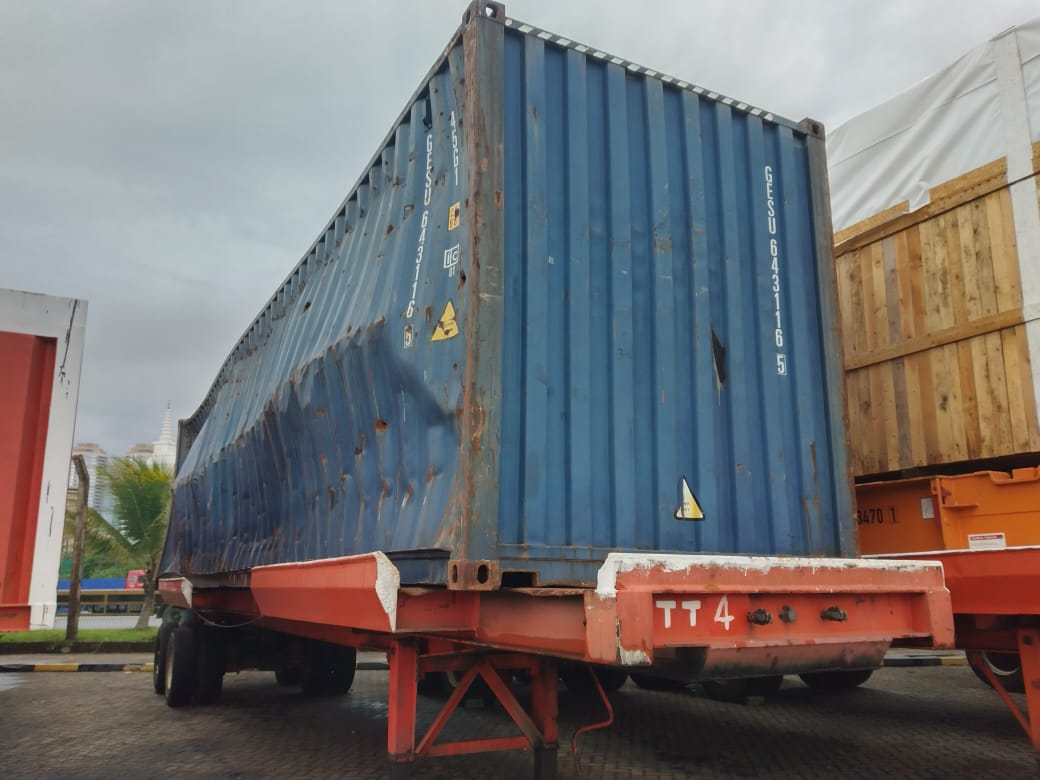bulged: (176, 280, 439, 525)
cut: (703, 323, 745, 398)
